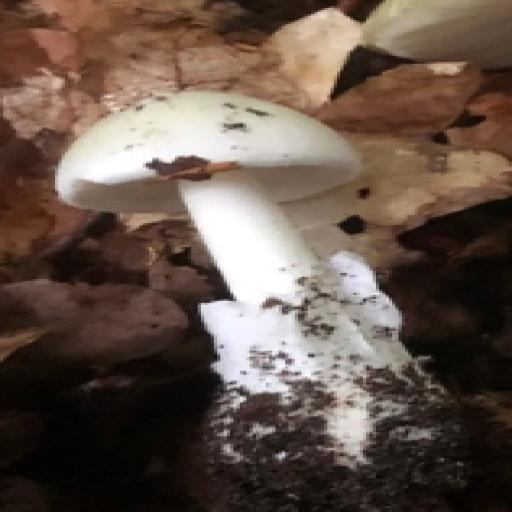Death Cap: (39, 28, 502, 512)
